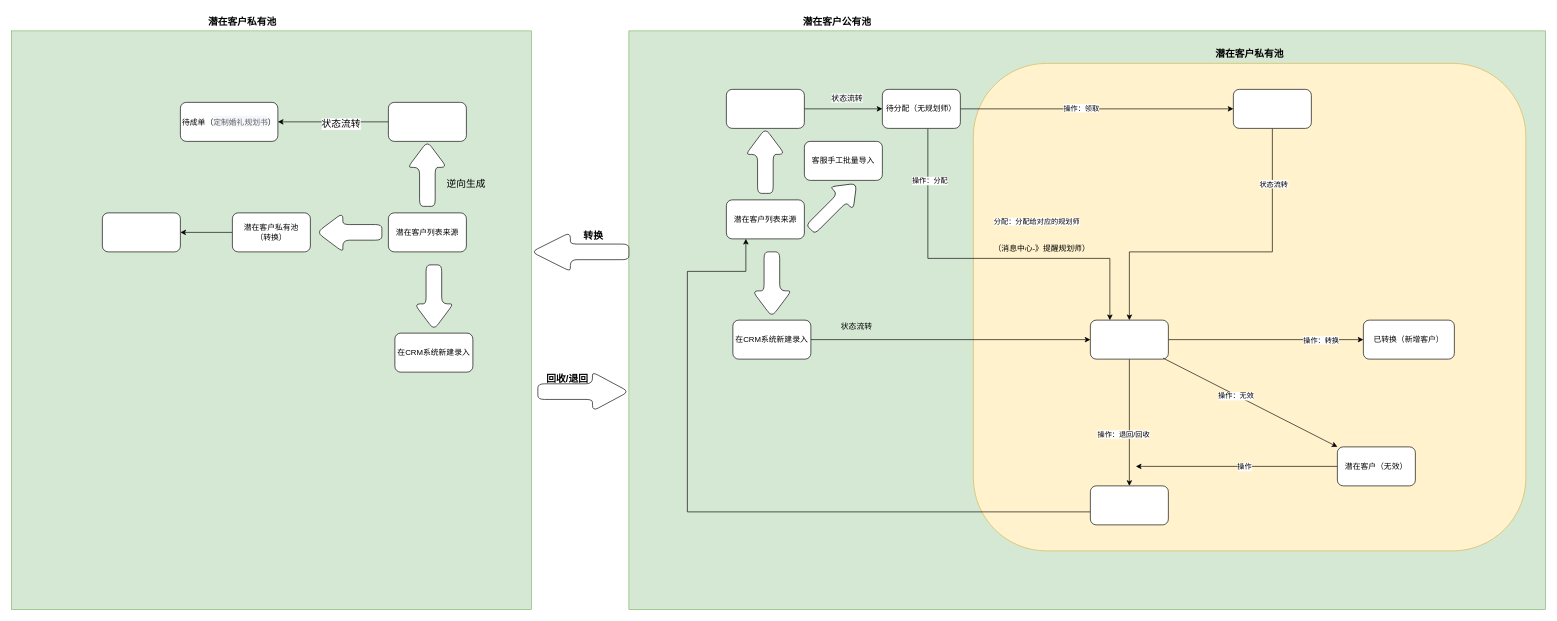
Some shapes in this 1557 by 621 pixel diagram are drawn without their labels. The centre of each missing label's shape, as x and y in pixels:
分配给自己: the point at 1272,108
婚奢汇新用户数据自动同步: the point at 765,108
待分配: the point at 1129,505
待处理（有规划师）: the point at 1129,339
待联系: the point at 141,232
线上婚奢汇规划师订单: the point at 427,121
